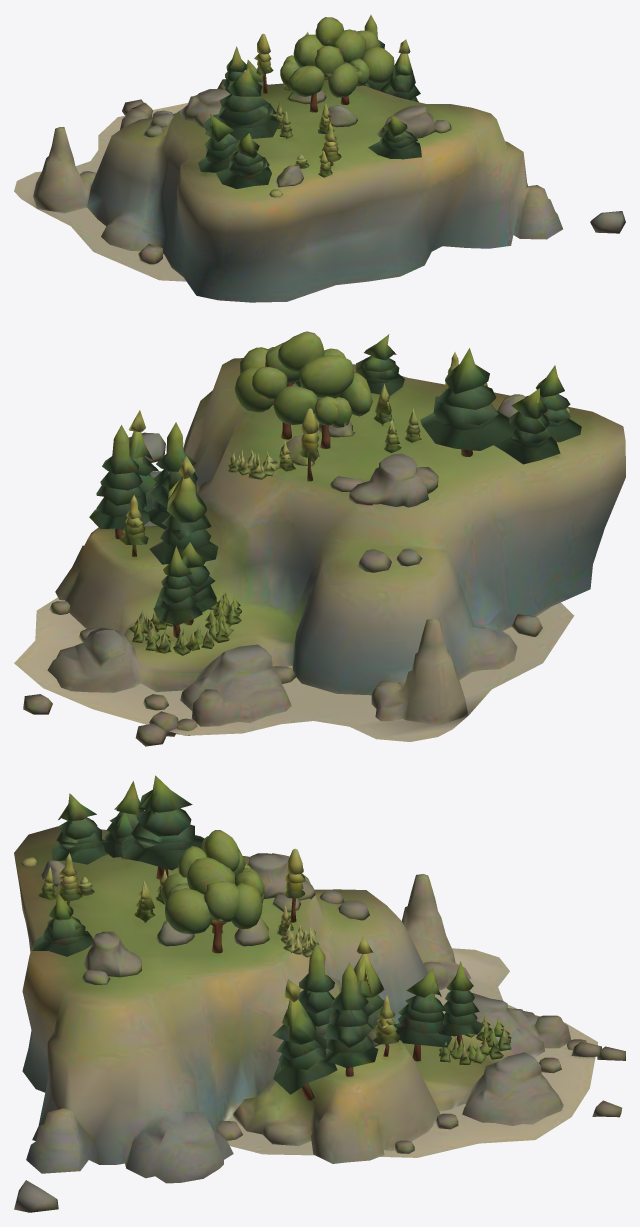
File: isle_10.glb
3 renders of one model, top to bottom at view 1: azimuth 30°, elevation 25°; view 2: azimuth 150°, elevation 25°; view 3: azimuth 270°, elevation 25°, orthographic. The views are drawn at different scales.
Parts seen in each view (by area): view 1: tripo_node_9d63835e-6d43-4af9-a563-272a1b77efc1; view 2: tripo_node_9d63835e-6d43-4af9-a563-272a1b77efc1; view 3: tripo_node_9d63835e-6d43-4af9-a563-272a1b77efc1.
Boxes of the visible parts, x1,y1,x2,y2 form: tripo_node_9d63835e-6d43-4af9-a563-272a1b77efc1: [14, 15, 625, 302]; tripo_node_9d63835e-6d43-4af9-a563-272a1b77efc1: [14, 331, 625, 746]; tripo_node_9d63835e-6d43-4af9-a563-272a1b77efc1: [14, 775, 625, 1212].
Size of the model in its own units: 44.39 by 20.06 by 44.04.
1 material, 1 textured.
